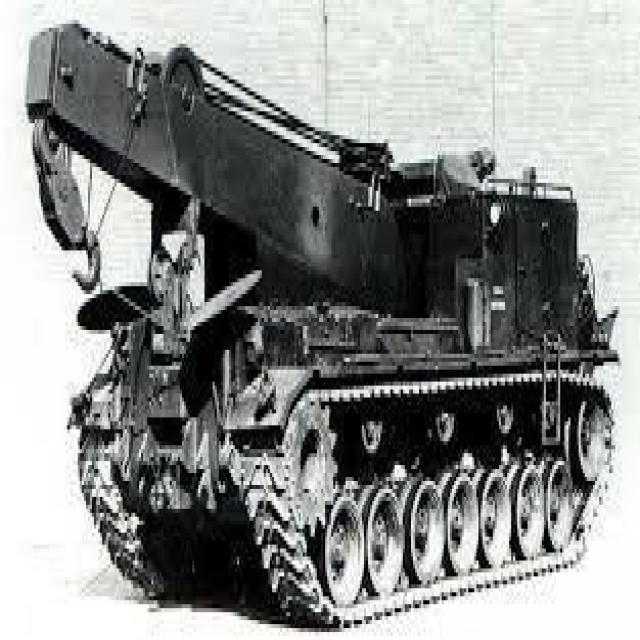Tanks: (34, 48, 608, 604)
